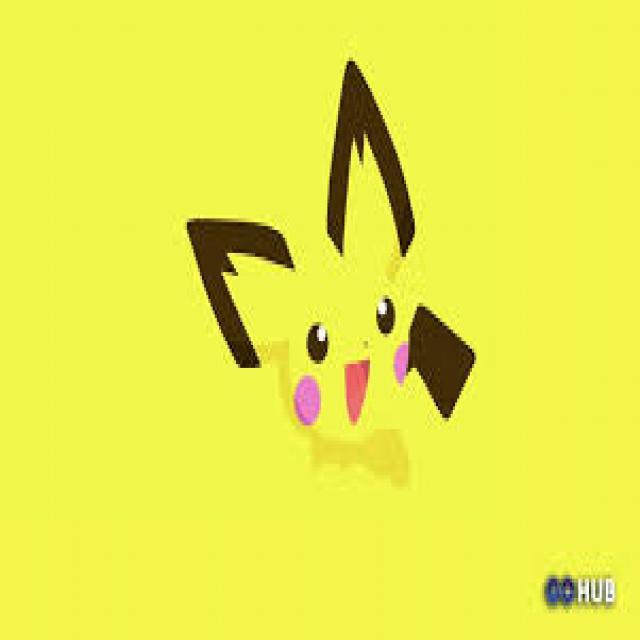pichu: (190, 80, 496, 554)
